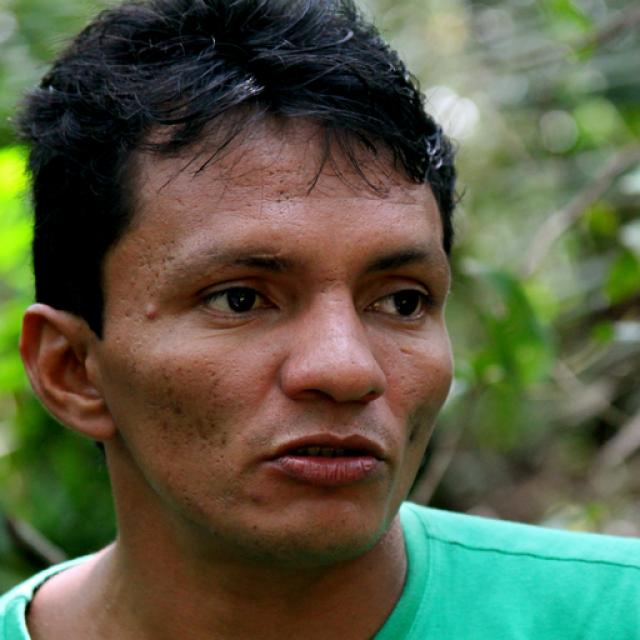Acne: (138, 301, 166, 331)
Pigmentation: (167, 399, 232, 447)
